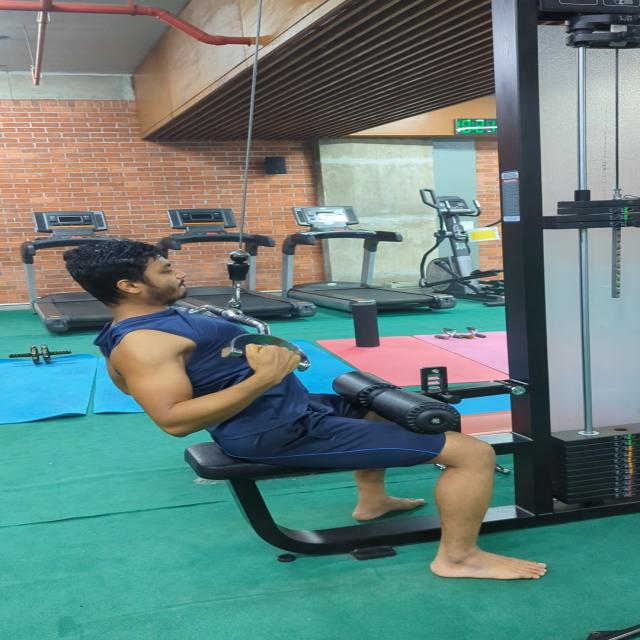Normal_LatPulldown: (41, 232, 569, 602)
